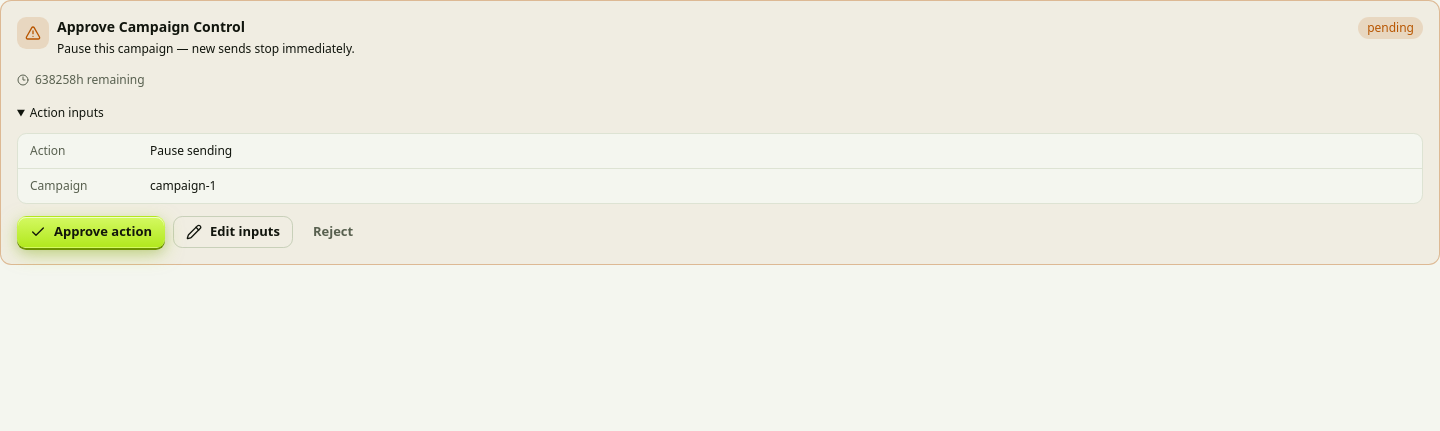
it: ApprovalCard › blocks malformed JSON in the raw escape hatch
Click the button "Edit inputs" at (233, 232), box [173,216,293,248]
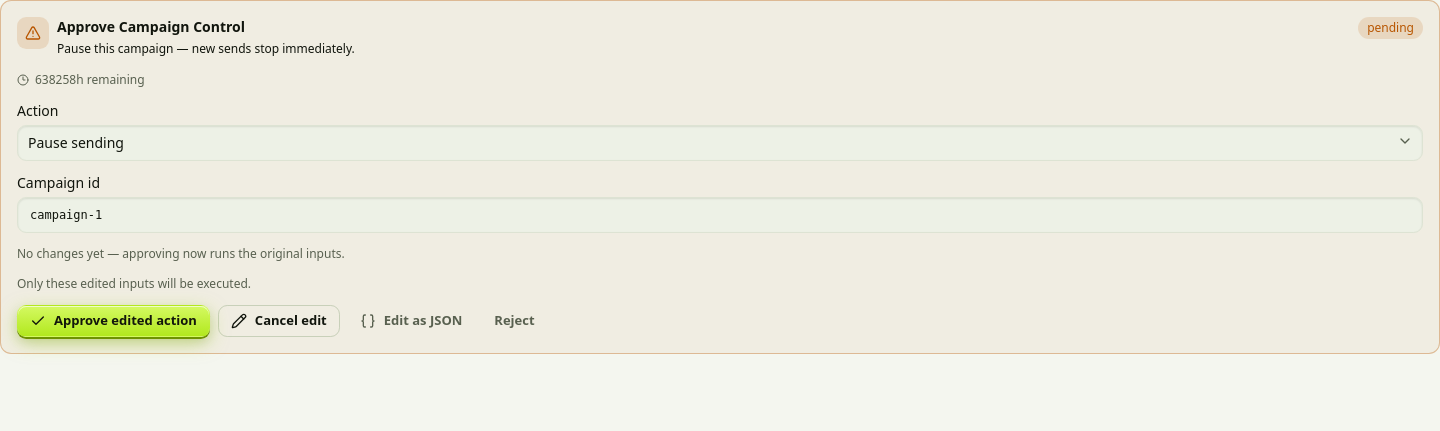
Click the button "Edit as JSON" at (411, 321), box [348,305,474,337]
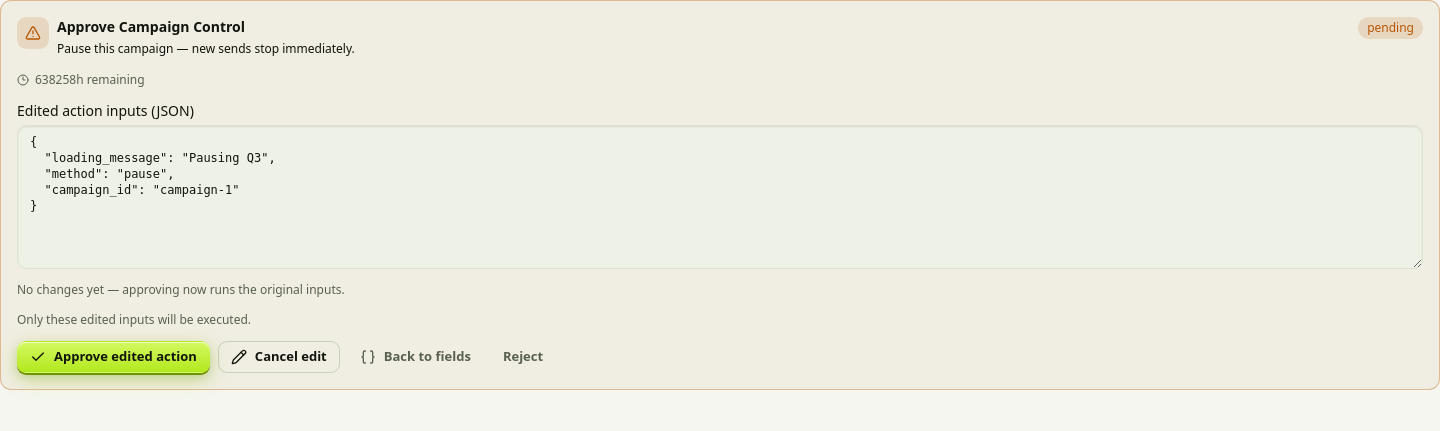
Replace the text in the text box labelled "Edited action inputs (JSON)" with "[\"not\", \"an\", \"object\"]" at (720, 197), box [17,125,1423,269]
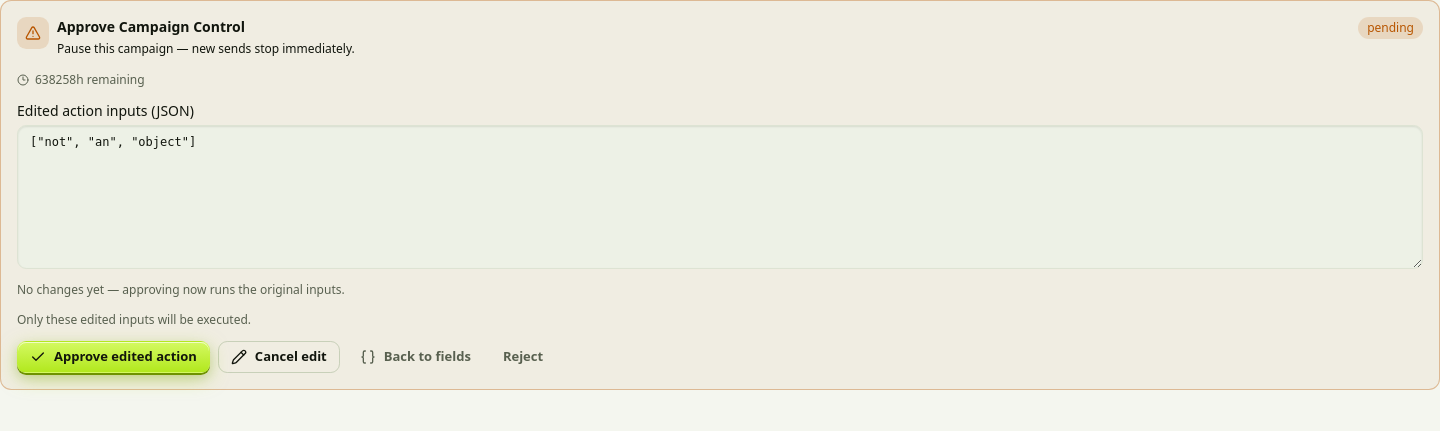
Click the button "Approve edited action" at (113, 357), box [17,341,210,373]
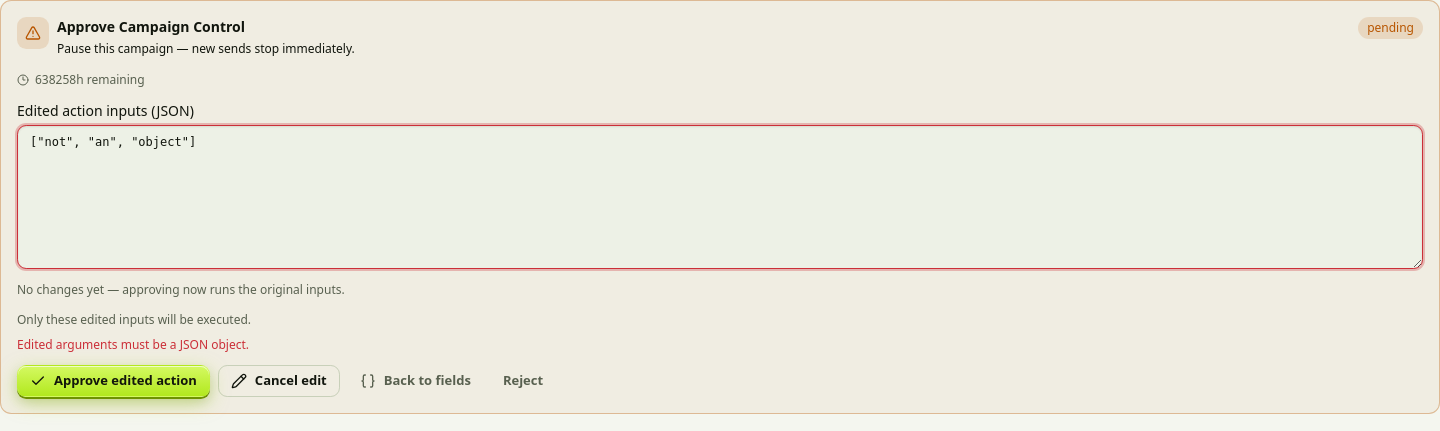
Expected: the message shows "must be a JSON object", [17,336,249,353]
